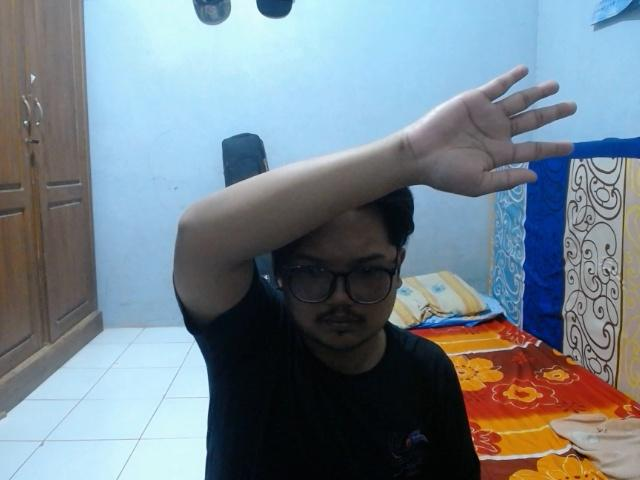Release: (390, 59, 582, 201)
